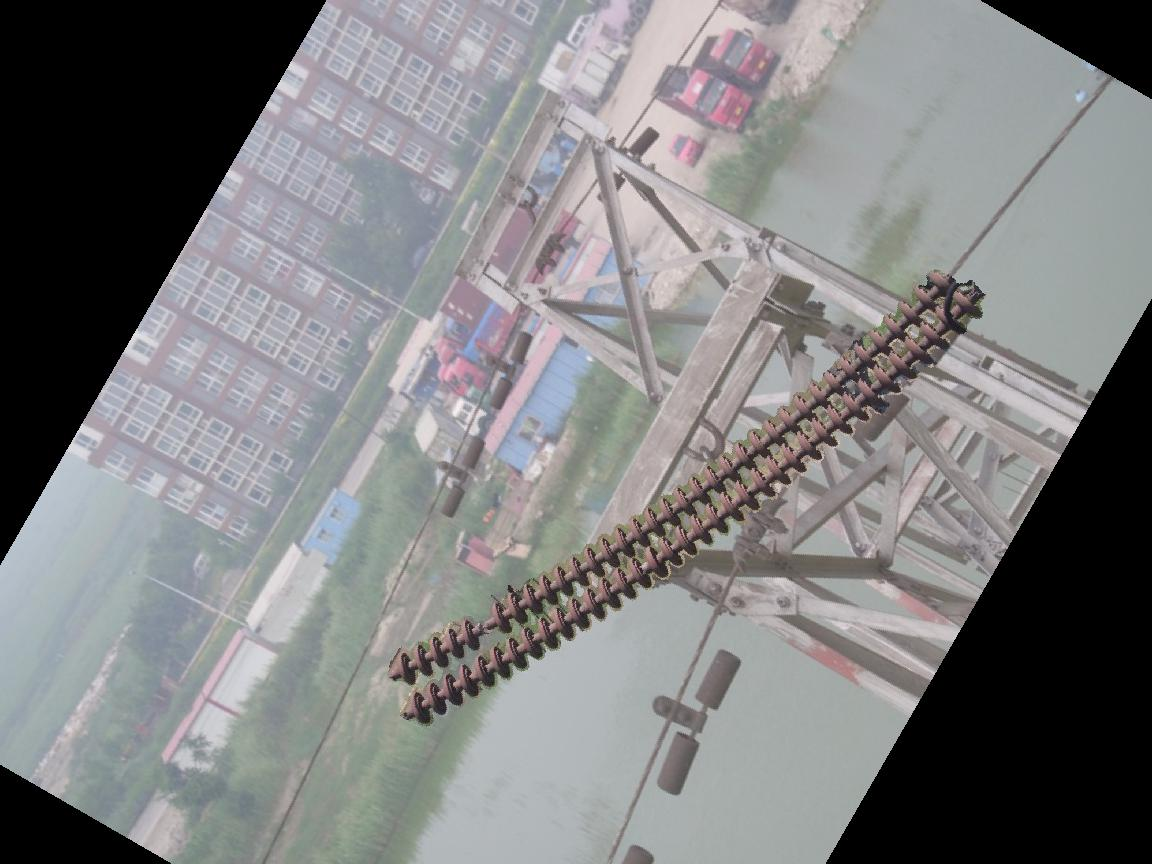insulator: (381, 264, 992, 731)
insulator_stringdrop: (456, 599, 512, 653)
